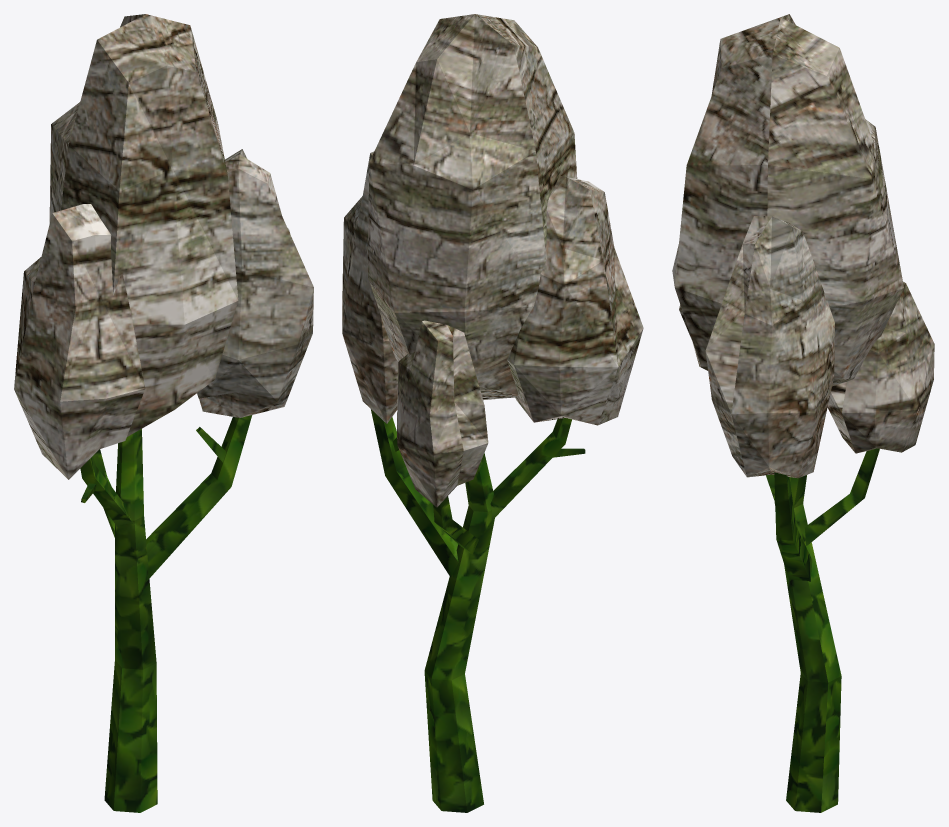
File: tree3.obj
3 views of the same model, side by side, from view 1: azimuth 30°, elevation 25°; view 2: azimuth 150°, elevation 25°; view 3: azimuth 270°, elevation 25° (orthographic). The views are drawn at different scales.
Visible parts, largest first — view 1: Tree_temp_climate_005_Mesh.004; view 2: Tree_temp_climate_005_Mesh.004; view 3: Tree_temp_climate_005_Mesh.004.
Boxes of the visible parts, x1=… form: Tree_temp_climate_005_Mesh.004: x1=14, y1=14, x2=313, y2=812; Tree_temp_climate_005_Mesh.004: x1=342, y1=14, x2=643, y2=812; Tree_temp_climate_005_Mesh.004: x1=672, y1=14, x2=934, y2=812.
Bounding box in the file's own units: 2.44 × 6.61 × 2.
Materials: 1 (1 with a texture image).
